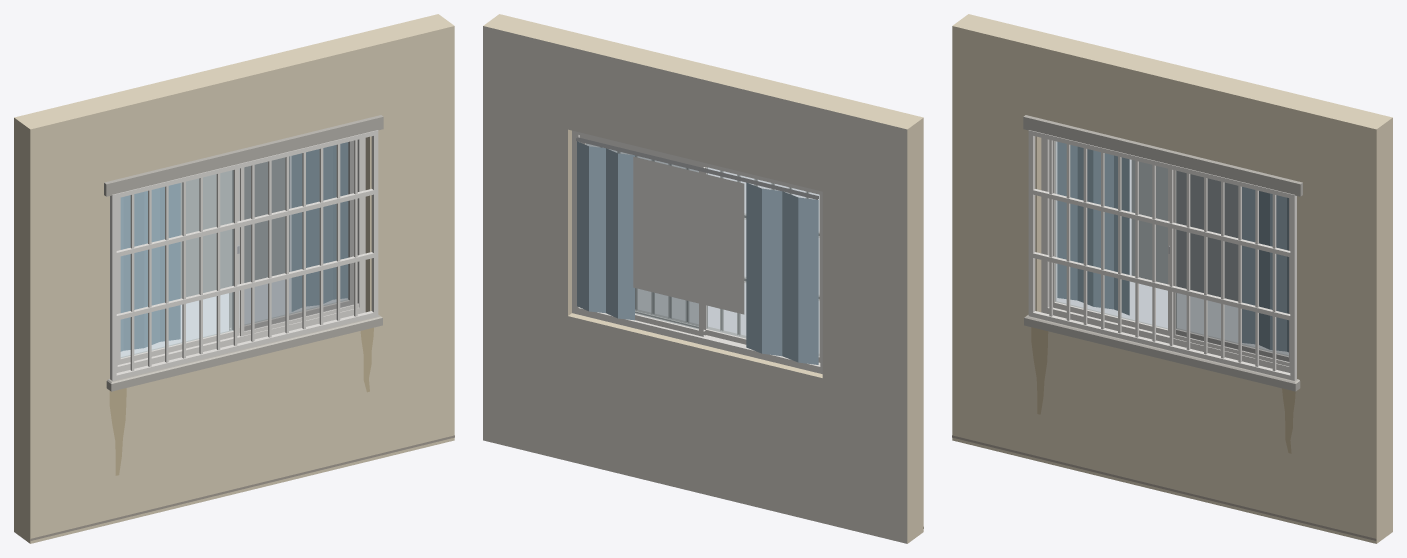
File: SC_Bld_Villa_Wall_Render_Window_3m.gltf
3 renders of one model, left to right at view 1: azimuth 30°, elevation 25°; view 2: azimuth 150°, elevation 25°; view 3: azimuth 330°, elevation 25°, orthographic.
Parts seen in each view (by area): view 1: SC_Bld_Villa_Wall_Render_Window_3m; view 2: SC_Bld_Villa_Wall_Render_Window_3m; view 3: SC_Bld_Villa_Wall_Render_Window_3m.
Boxes of the visible parts, box(x1,y1,x2,y2) form: SC_Bld_Villa_Wall_Render_Window_3m: box(14, 14, 454, 543); SC_Bld_Villa_Wall_Render_Window_3m: box(483, 14, 923, 543); SC_Bld_Villa_Wall_Render_Window_3m: box(952, 14, 1392, 543).
Bounding box in the file's own units: 3 × 2.8 × 0.255.
2 materials, 2 textured.
